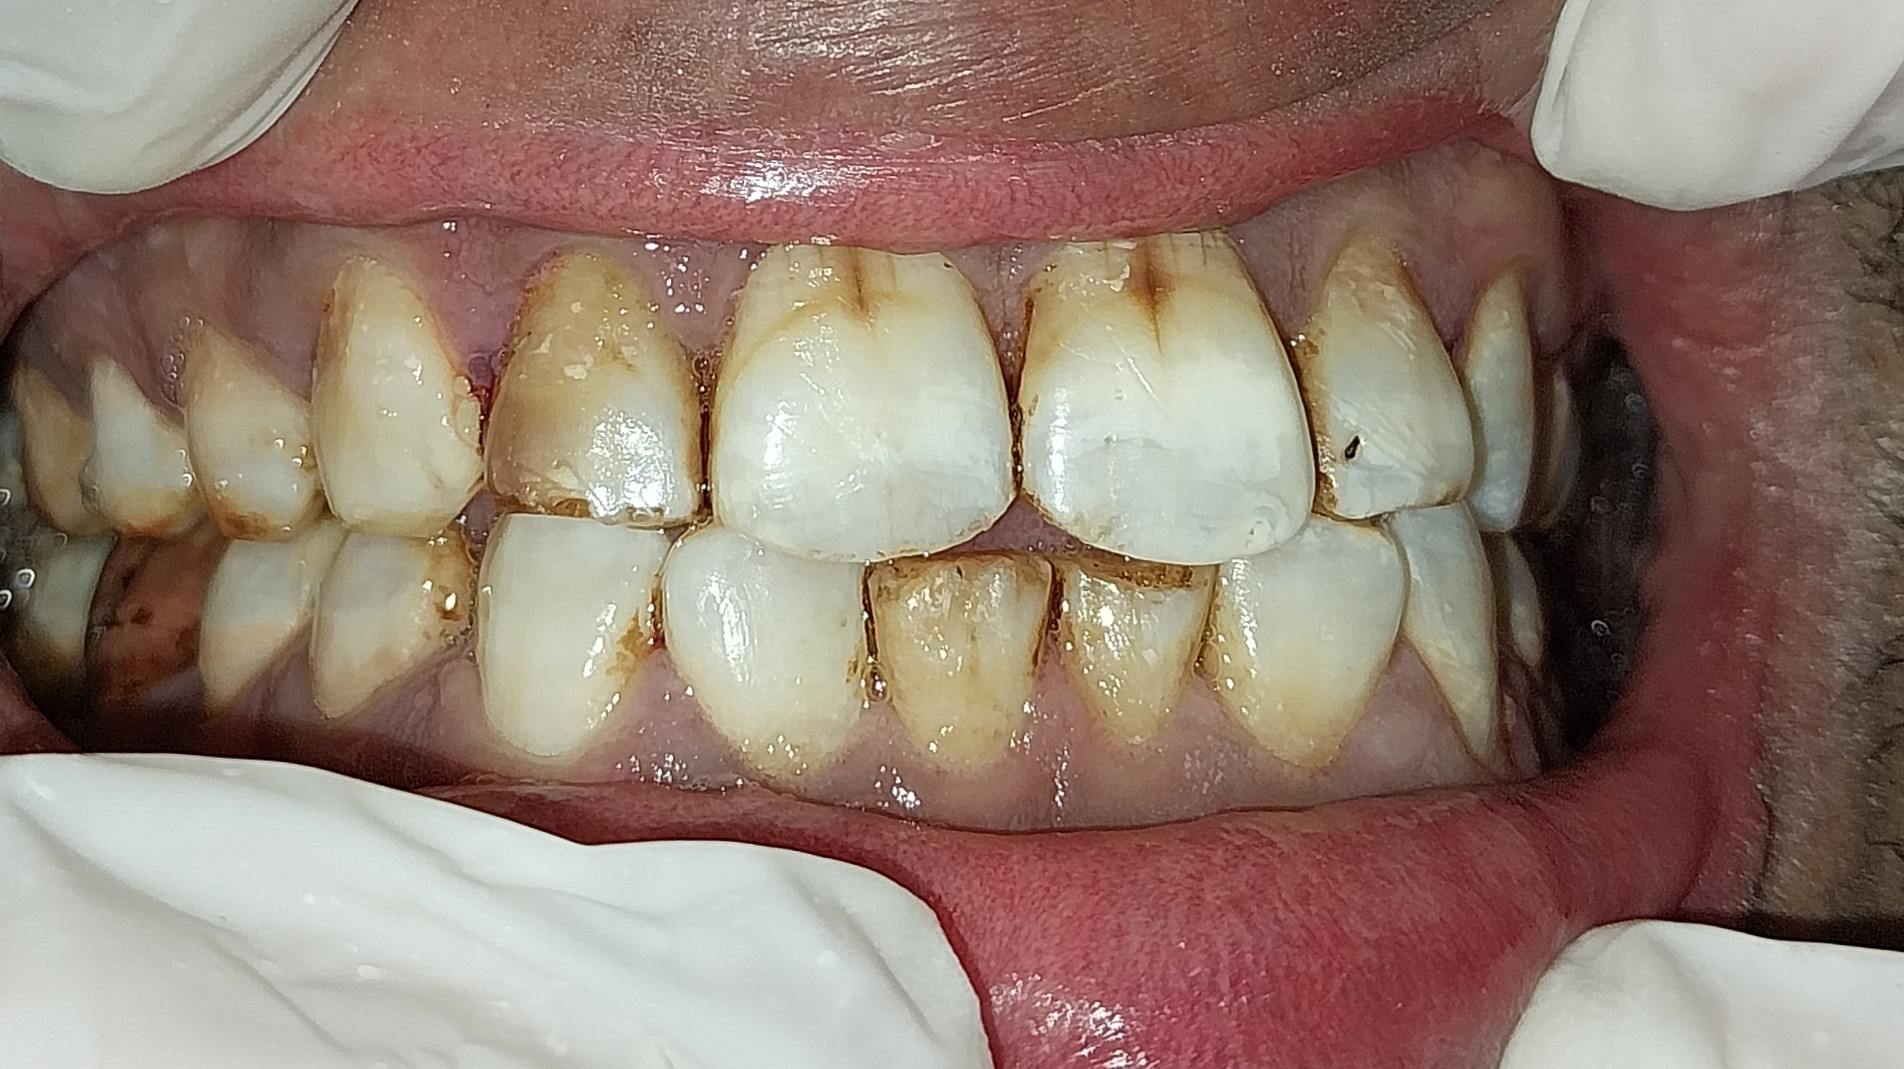D: (1287, 246, 1498, 519)
